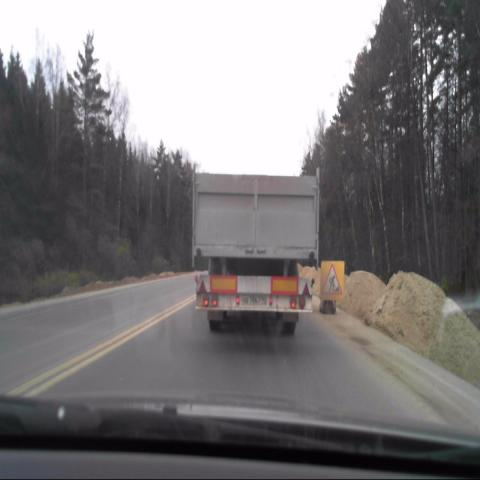1_25: (321, 262, 342, 301)
